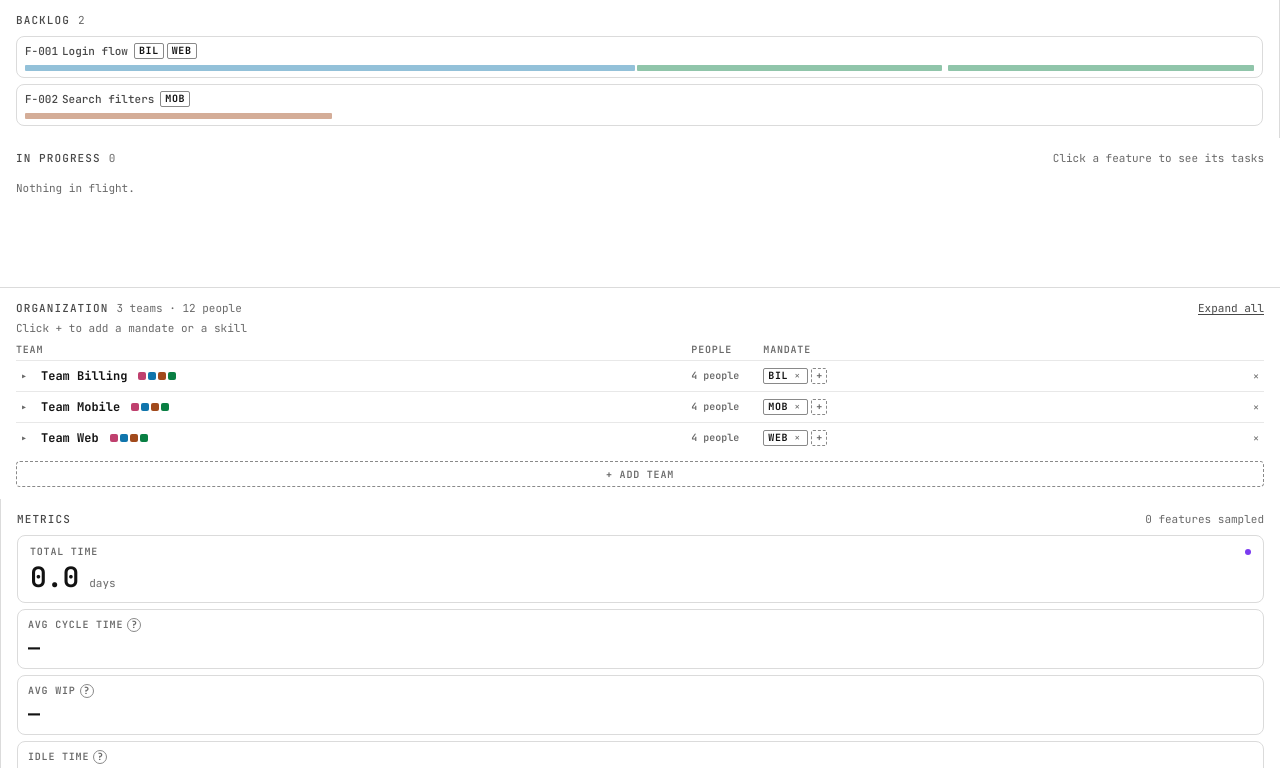
Test: feat-030 B8 a C7: přidání a odebrání týmu › tým s lidmi: potvrzení s fokusem na Cancel; Cancel tým nechá
Click the button named "Remove Team Web" at coordinates (1256, 438), box [1248,430,1264,446]
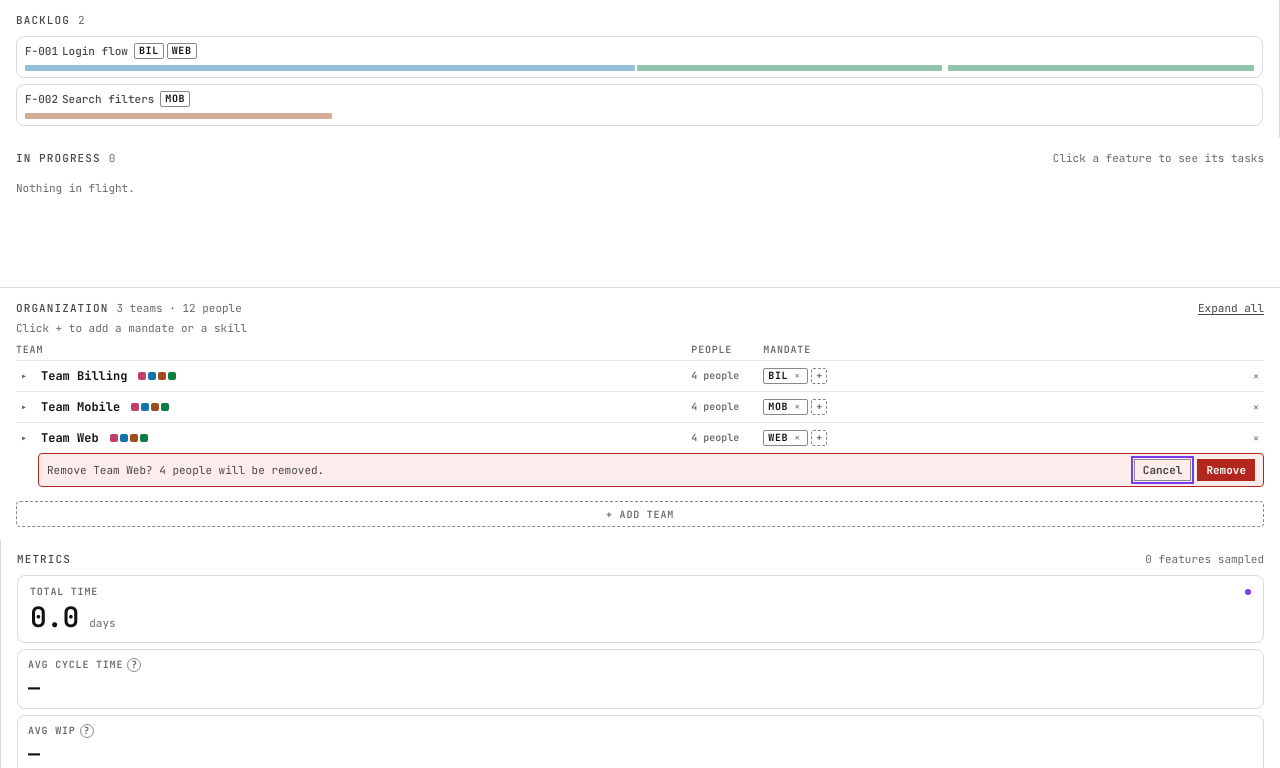
Now the text "Remove Team Web? 4 people will be removed." is shown, box [47,463,324,477]
Click the button "Cancel" at coordinates (1163, 470), box [1134,459,1191,481]
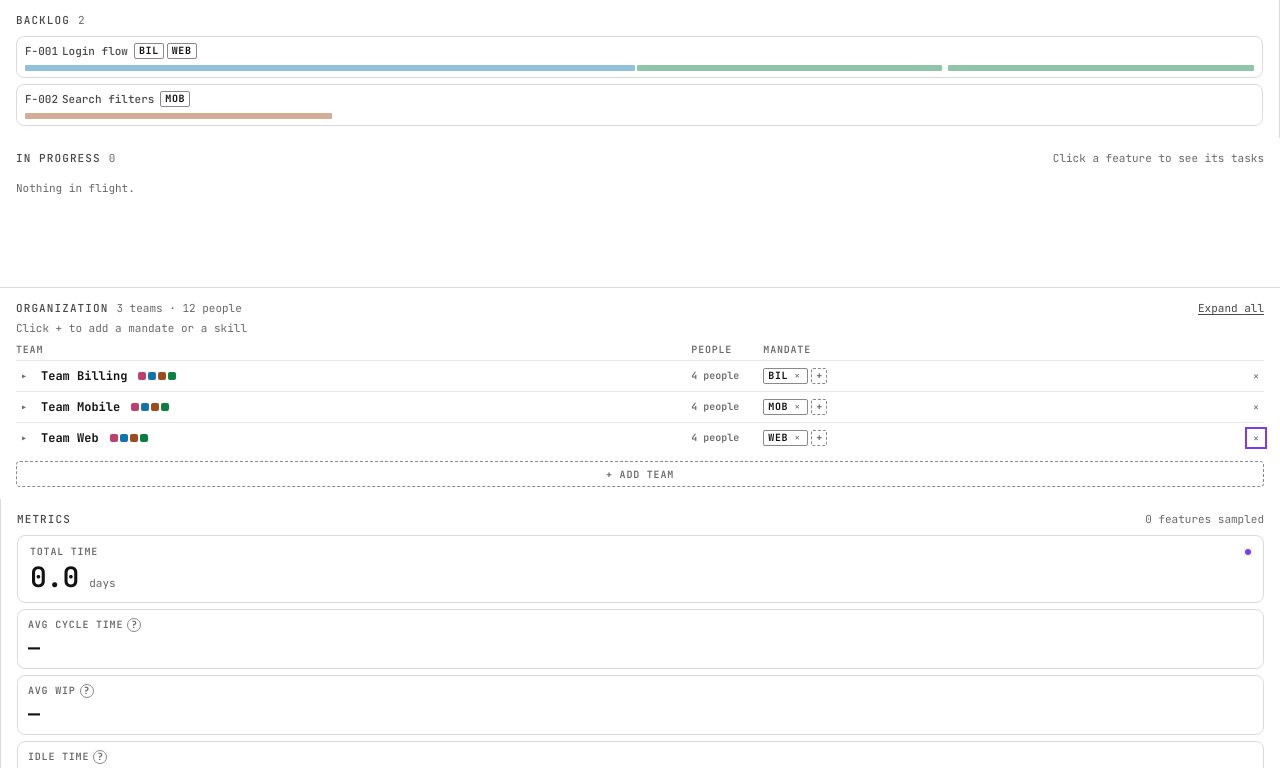
Now the text "Remove Team Web? 4 people will be removed." is gone
